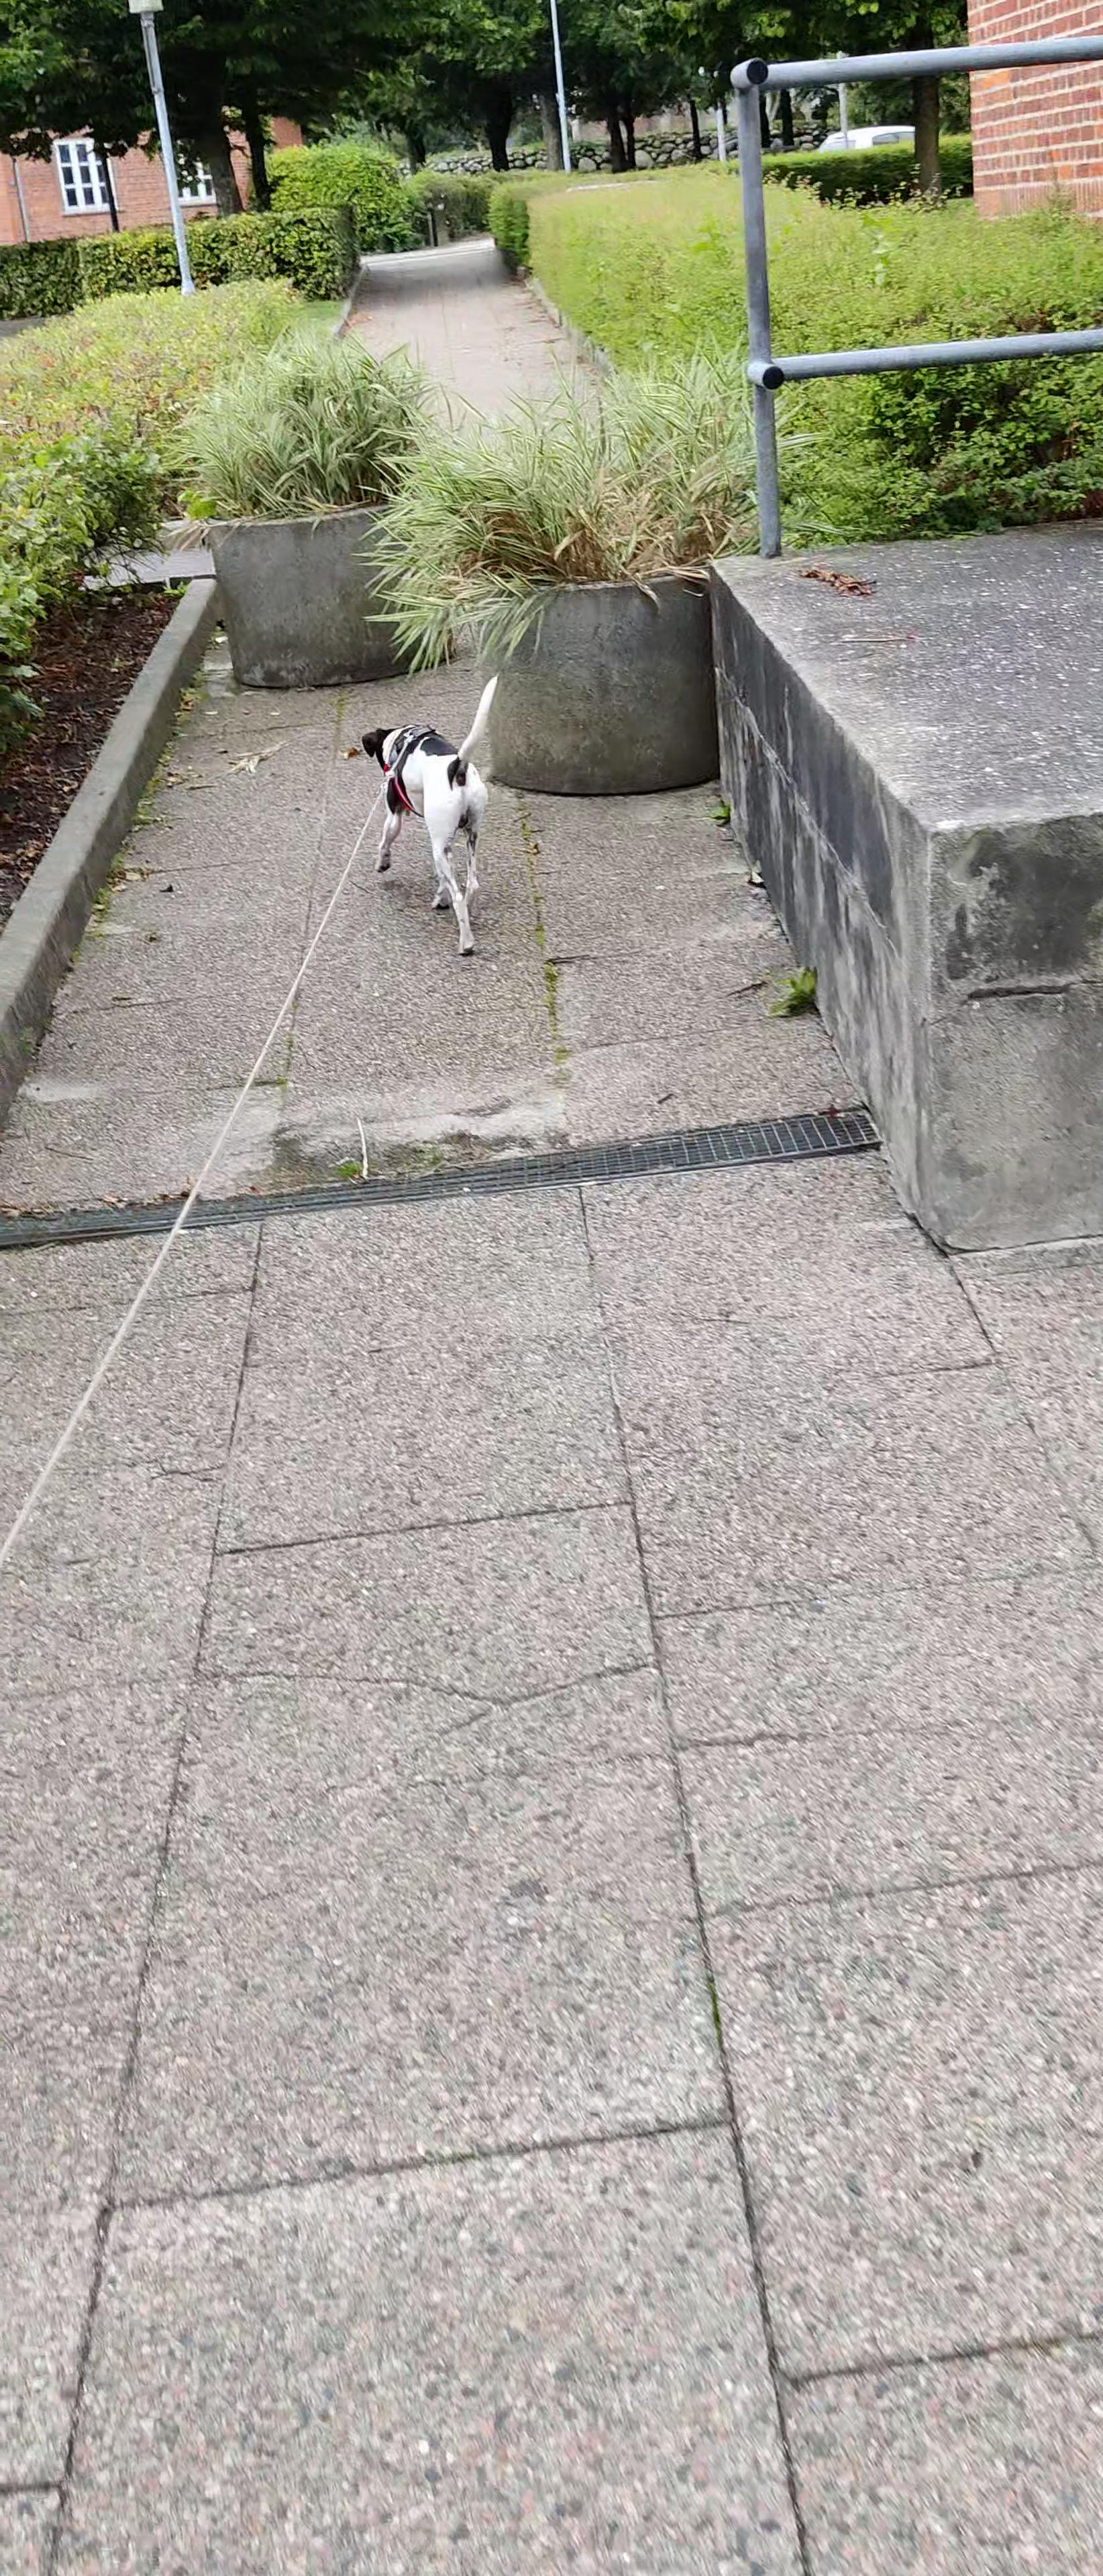Dog: (357, 674, 498, 959)
